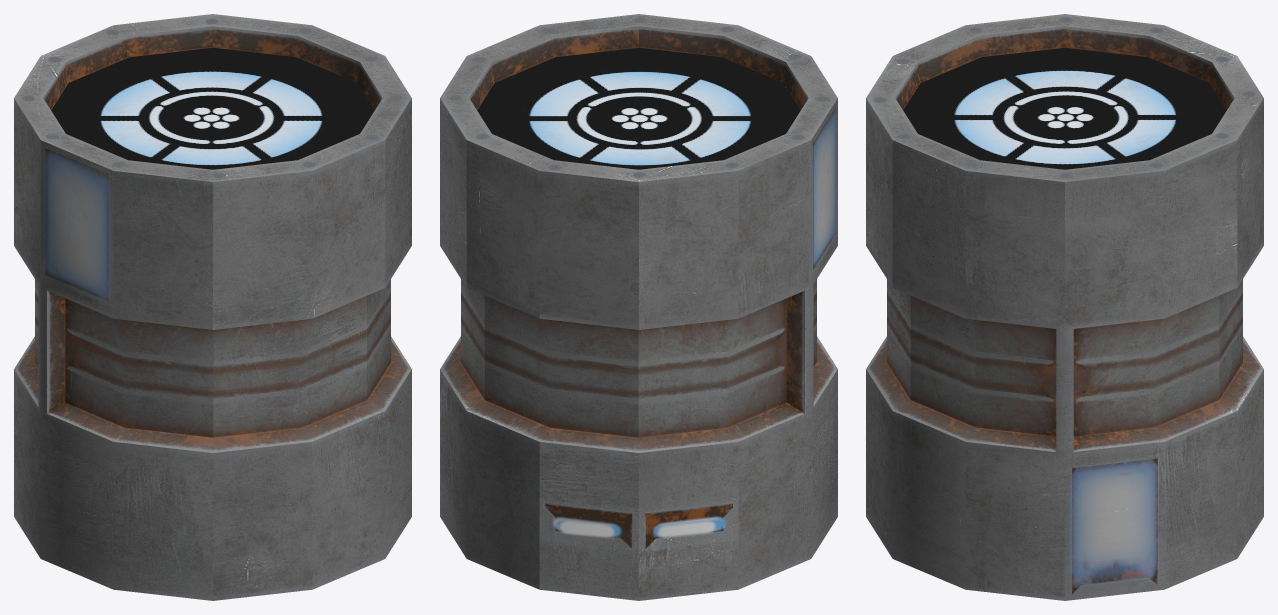
Rendered from SM_CloningTank_Roblox_Hallway_Barrel_JFG.fbx.
3 views of the same model, side by side, from view 1: azimuth 30°, elevation 25°; view 2: azimuth 150°, elevation 25°; view 3: azimuth 270°, elevation 25° (orthographic).
Parts seen in each view (by area): view 1: SM_CloningTank_Roblox_Hallway_Barrel_JFG; view 2: SM_CloningTank_Roblox_Hallway_Barrel_JFG; view 3: SM_CloningTank_Roblox_Hallway_Barrel_JFG.
Part boxes in pixels (x1=…): SM_CloningTank_Roblox_Hallway_Barrel_JFG: x1=14, y1=14, x2=411, y2=600; SM_CloningTank_Roblox_Hallway_Barrel_JFG: x1=440, y1=14, x2=837, y2=600; SM_CloningTank_Roblox_Hallway_Barrel_JFG: x1=866, y1=14, x2=1263, y2=600.
Size of the model in its own units: 38.87 by 45.15 by 38.87.
1 material, 1 textured.
